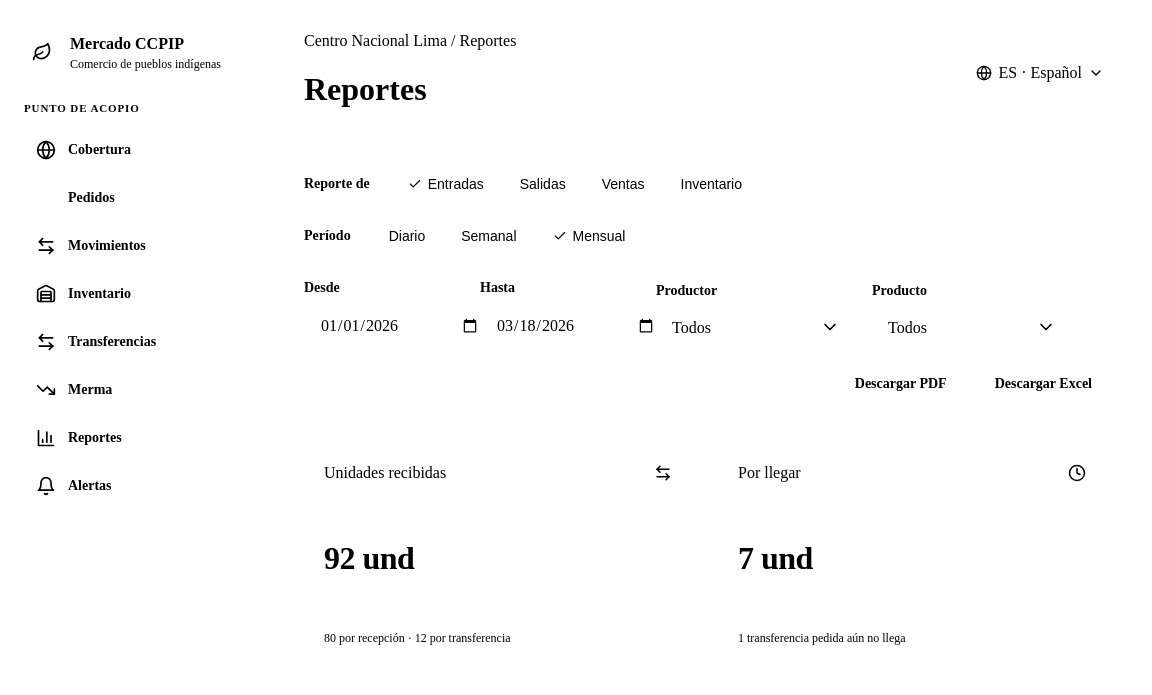
Test: A-06 Reportes del punto de acopio › CCPIP-341: las salidas separan las ventas entregadas de las que siguen por entregar
Step 1. Select "Asoc. Nii Joi" in the dropdown labelled "Productor" → {"x": 756, "y": 327}, box [656,307,856,348]
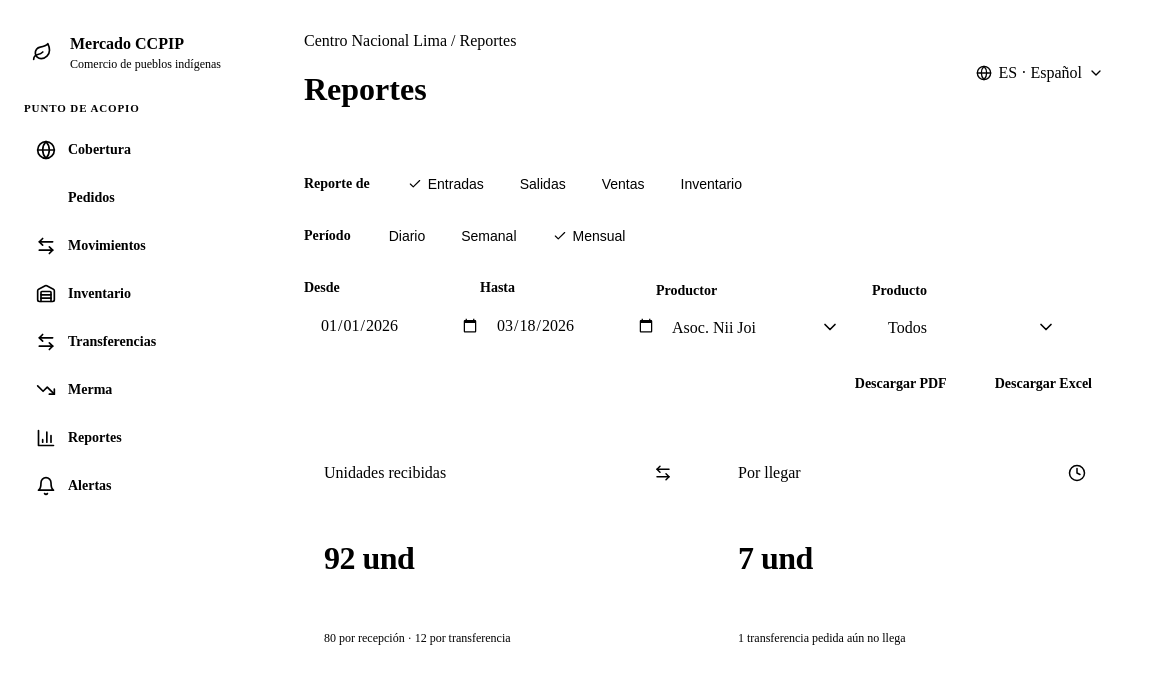
Step 2. Click the button "Salidas" → {"x": 543, "y": 184}, box [506,166,580,202]
(page scrolled)
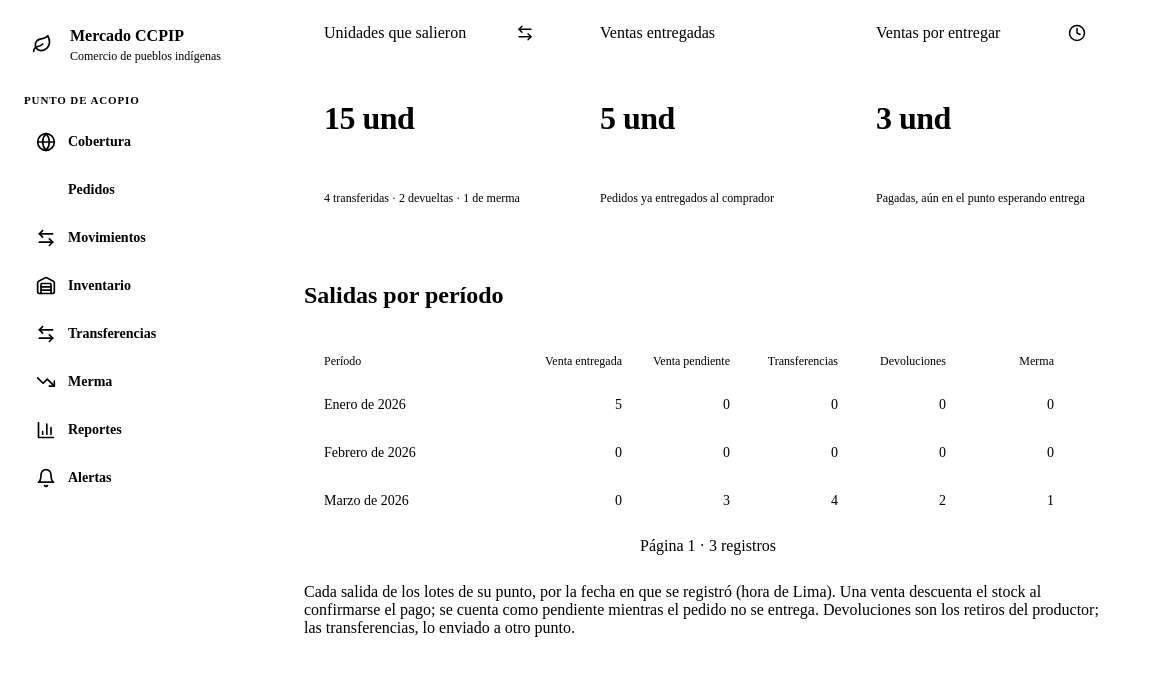
Now the element "Unidades que salieron" shows "15 und", box [324,100,414,136]
Now the element "Unidades que salieron" shows "4 transferidas · 2 devueltas · 1 de merma", box [324,191,520,205]
Now the element "Ventas entregadas" shows "5 und", box [600,100,675,136]
